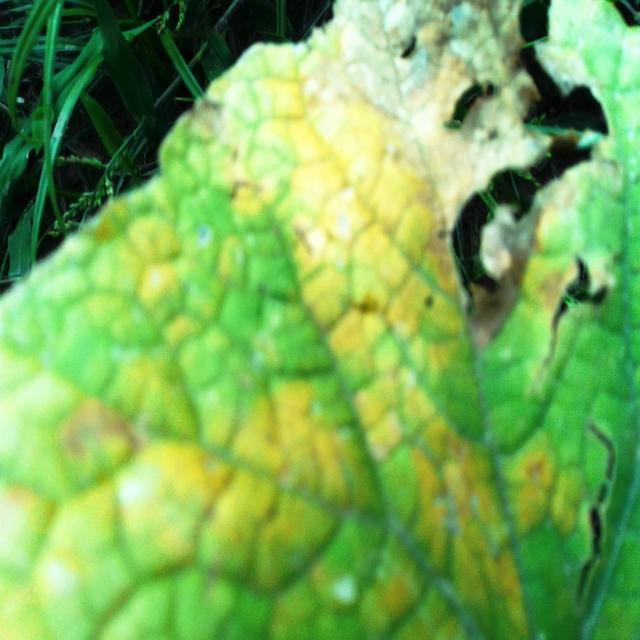Anthracnose: (444, 1, 615, 321), (545, 249, 611, 329)
